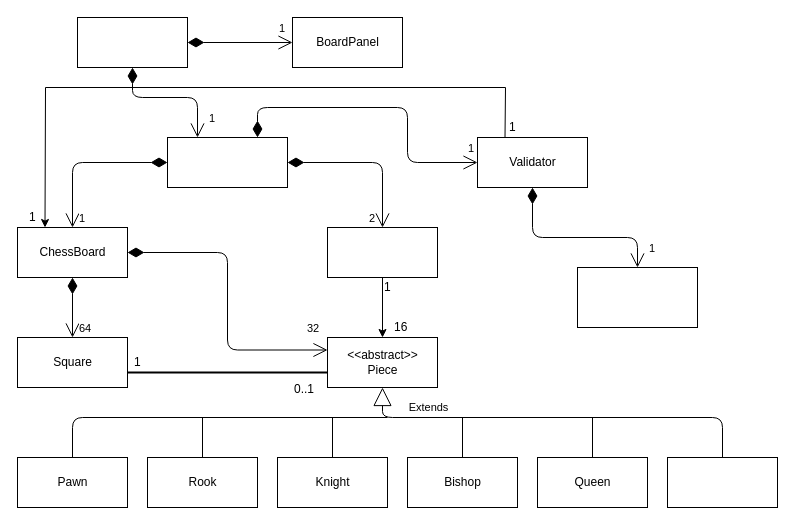
Some shapes in this 795 by 525 pixel diagram are drawn without their labels. Here are the shapes that lost their labels. From the top down, the centre of each, then its label:
At pixel 132 42: "ChessGUI".
At pixel 227 162: "ChessGame".
At pixel 382 252: "Player".
At pixel 637 297: "PiecesBetween".
At pixel 722 482: "King".
